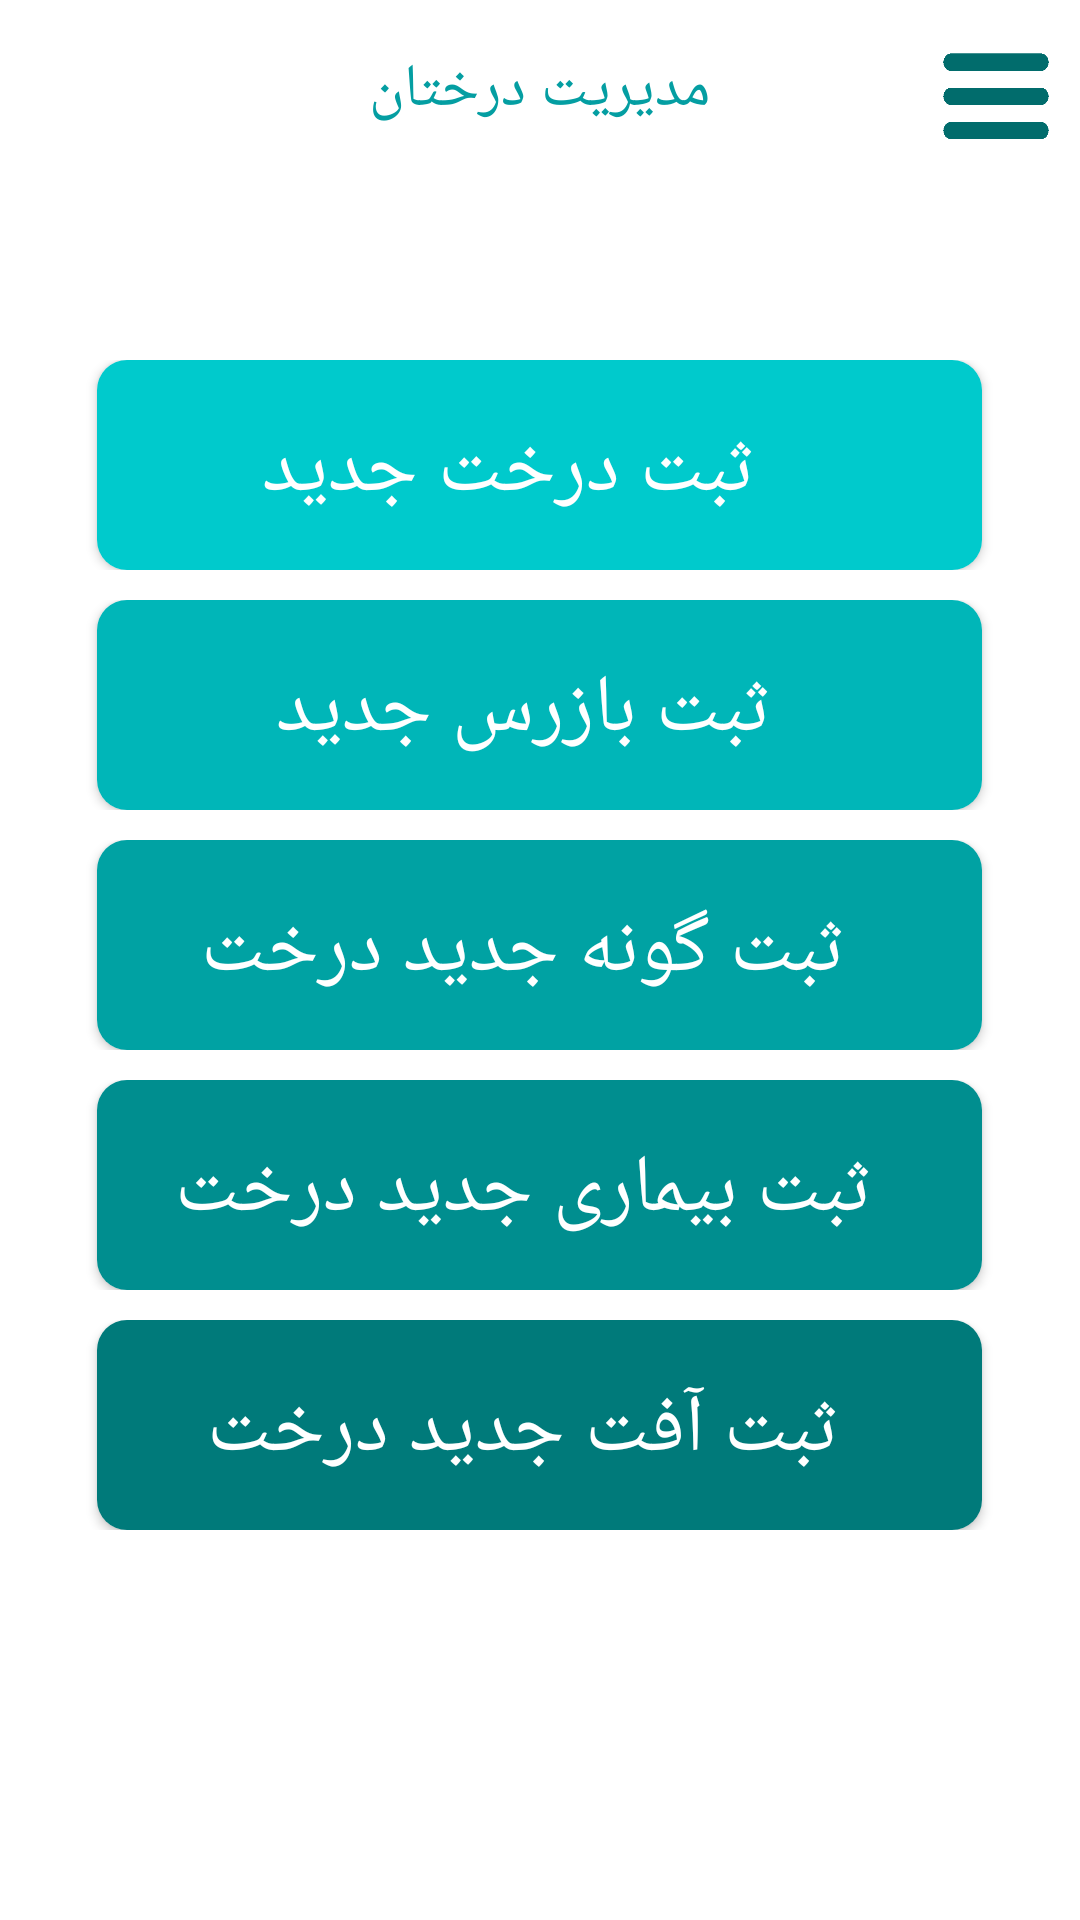

Screen size 1080px x 1920px. Icon name, then its box in pixels as (x1, y1, x2, y2):
hamicon: (943, 53, 1049, 139)
